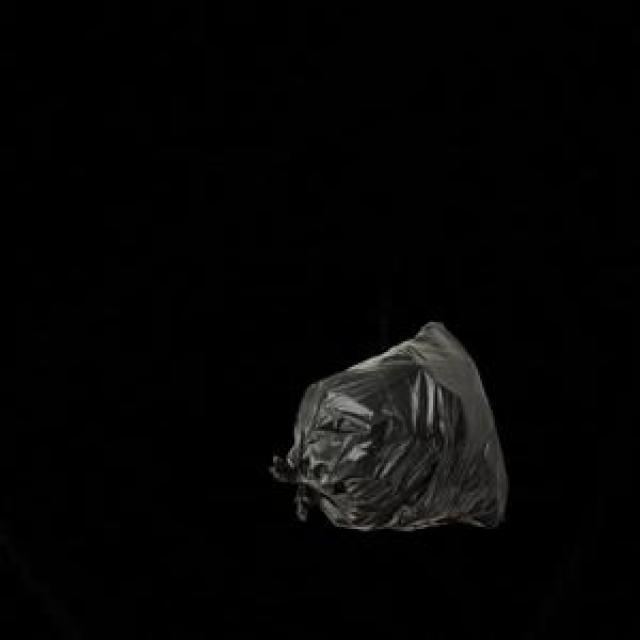miscellaneous trash: (267, 320, 504, 527)
